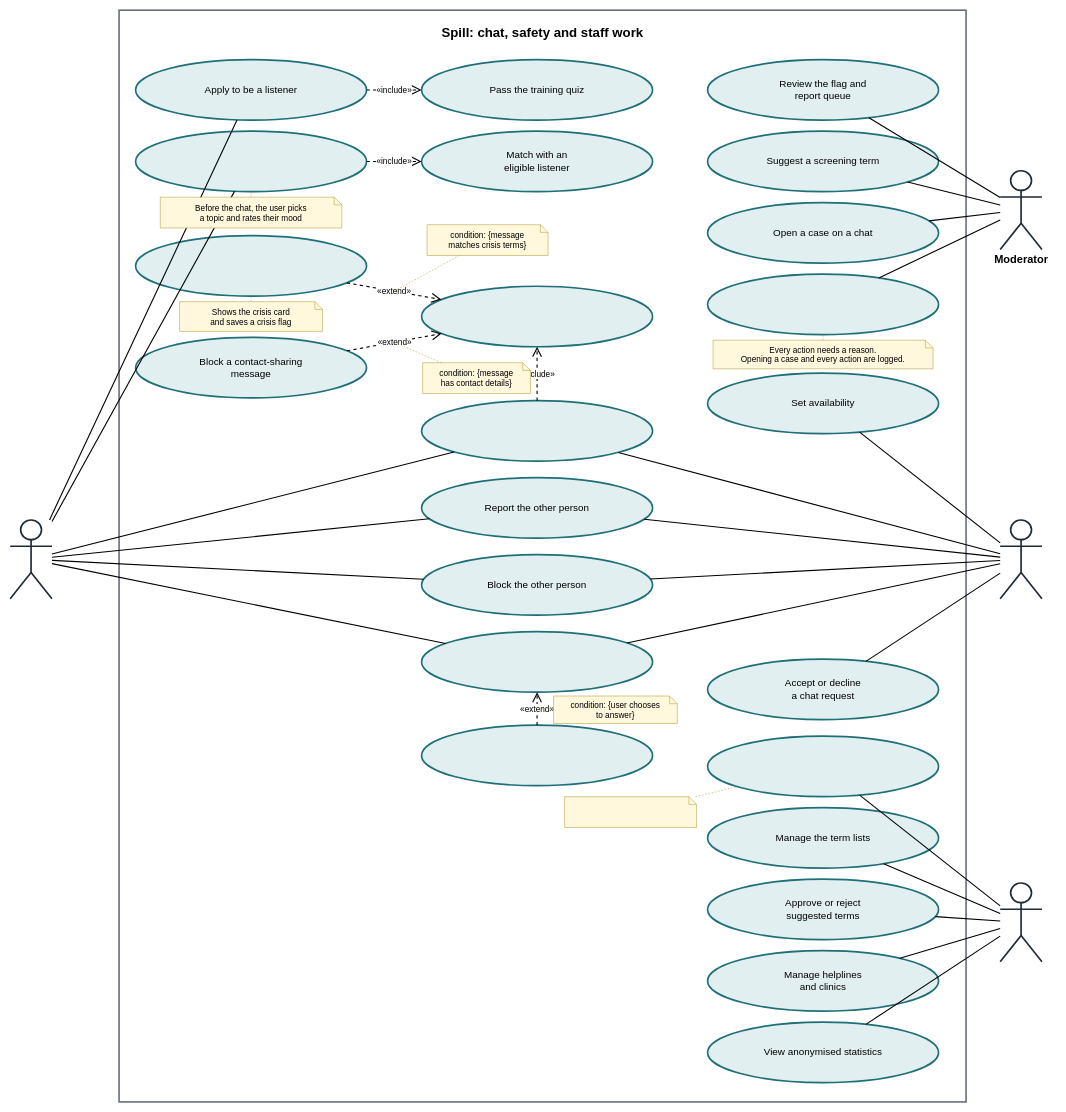
Image size: 1066x1112. Some labels were removed from this diagram. Here are the shapes that lost their labels. From the top down, the box of each, then its label:
(134, 130, 367, 192): Request a chat
(134, 235, 367, 297): Trigger crisis support
(420, 285, 653, 347): Screen every message
(706, 273, 939, 335): Take a moderation action
(420, 400, 653, 462): Exchange messages
(9, 519, 53, 599): User
(999, 519, 1043, 599): Listener
(420, 631, 653, 693): End the chat
(420, 724, 653, 786): Answer the after-chat questions
(706, 735, 939, 797): Review listener applications
(564, 796, 697, 827): Runs the checks, then approves or rejects
(999, 882, 1043, 962): Administrator
